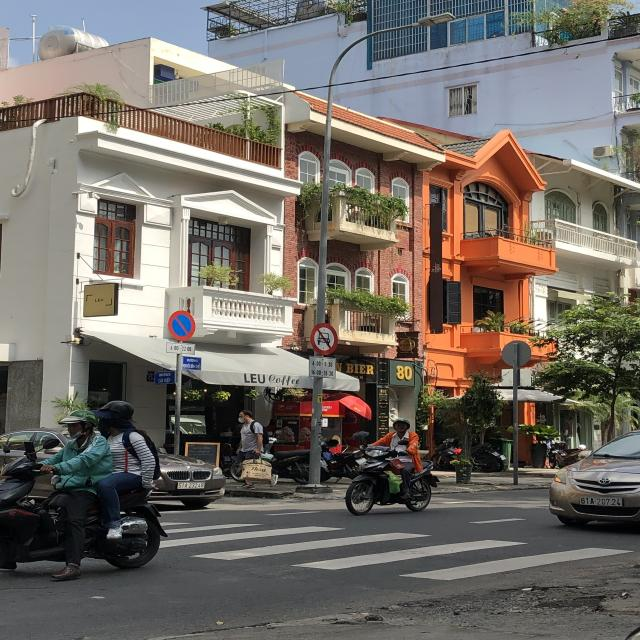Bien bao cam do xe: (164, 308, 202, 341)
Bien bao cam xe oto: (307, 321, 343, 356)
